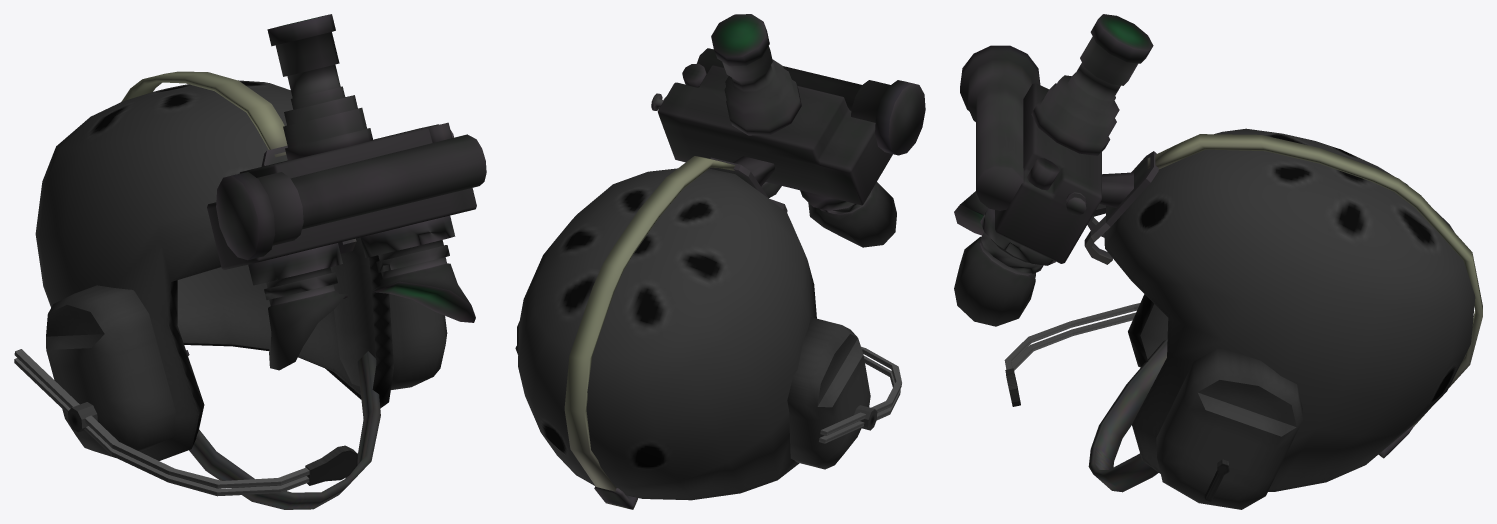
File: MilitaryTacticalHelmetNVG_WorldItem.fbx
3 views of the same model, side by side, from view 1: azimuth 30°, elevation 25°; view 2: azimuth 150°, elevation 25°; view 3: azimuth 270°, elevation 25° (orthographic). The views are drawn at different scales.
Parts seen in each view (by area): view 1: 60jtdo54bx3q.011; view 2: 60jtdo54bx3q.011; view 3: 60jtdo54bx3q.011.
Boxes of the visible parts, x1,y1,x2,y2 form: 60jtdo54bx3q.011: (14,14,486,509); 60jtdo54bx3q.011: (515,14,925,509); 60jtdo54bx3q.011: (954,14,1482,509).
Bounding box in the file's own units: 0.4006 × 0.503 × 0.5215.
